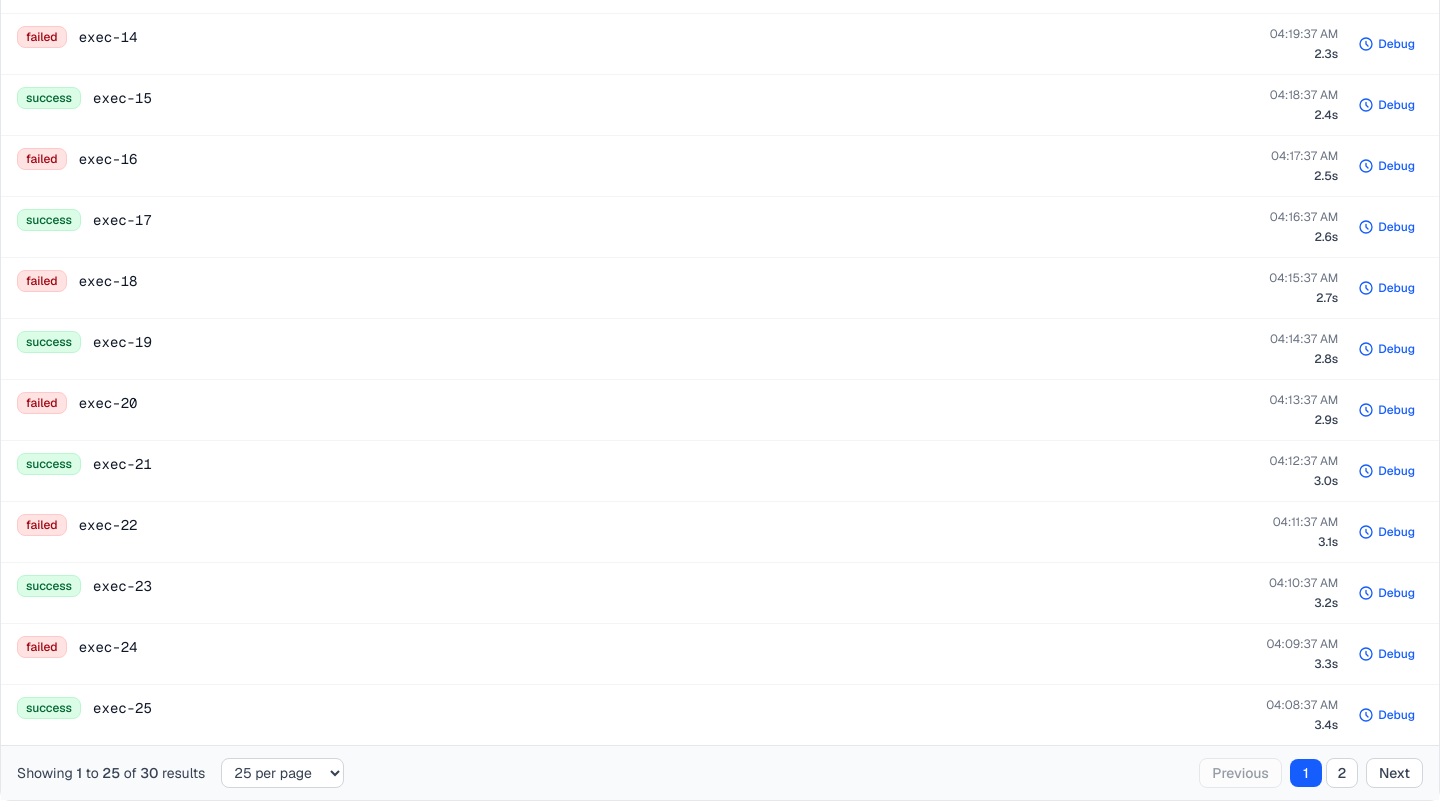
Test: ExecutionHistoryPanel › Pagination › clicking page number navigates to that page
(page scrolled)
Select "10 per page" in the dropdown at (283, 773), box [221,758,344,788]
(page scrolled)
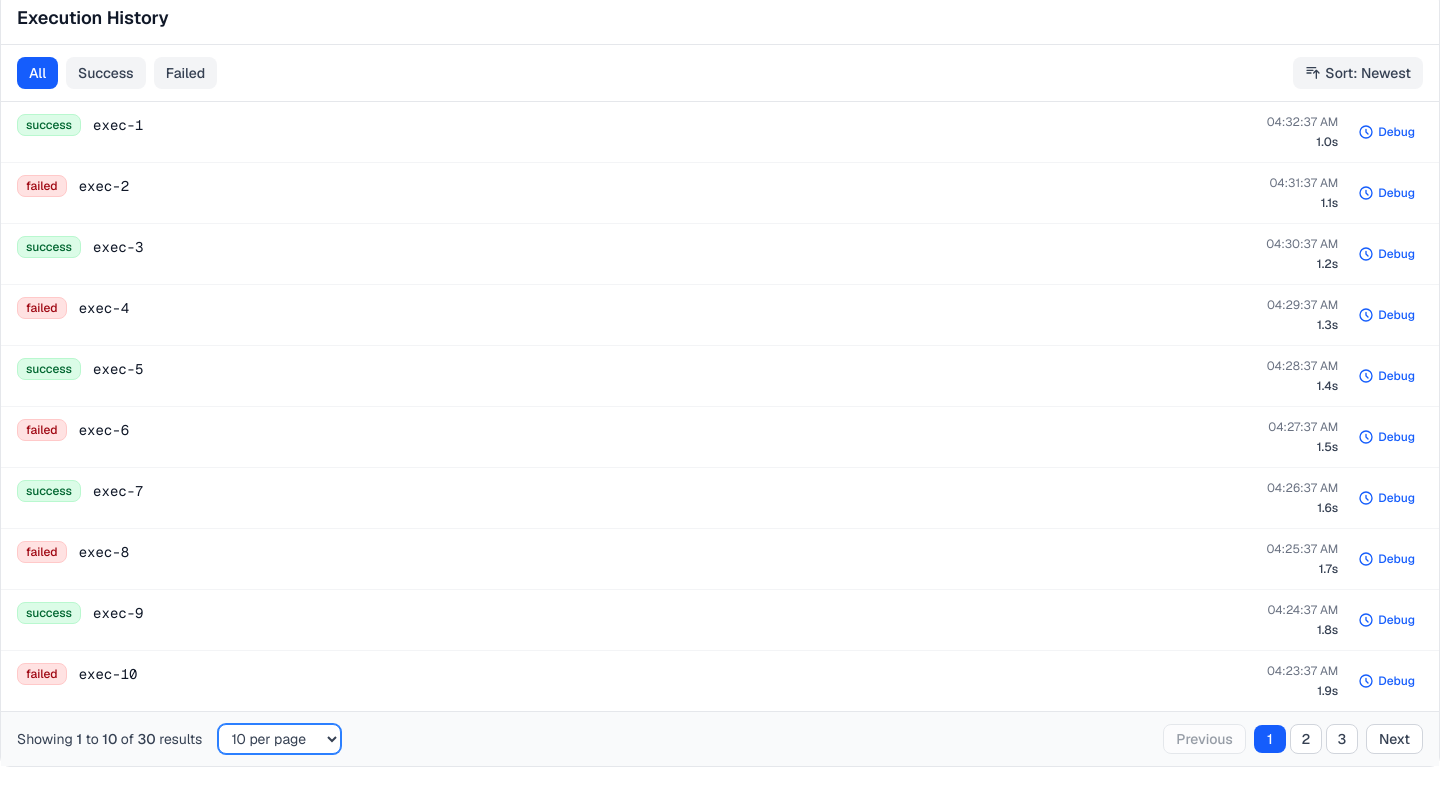
// Click on page 2 button
Click the button "2" at (1306, 739), box [1290,724,1322,754]
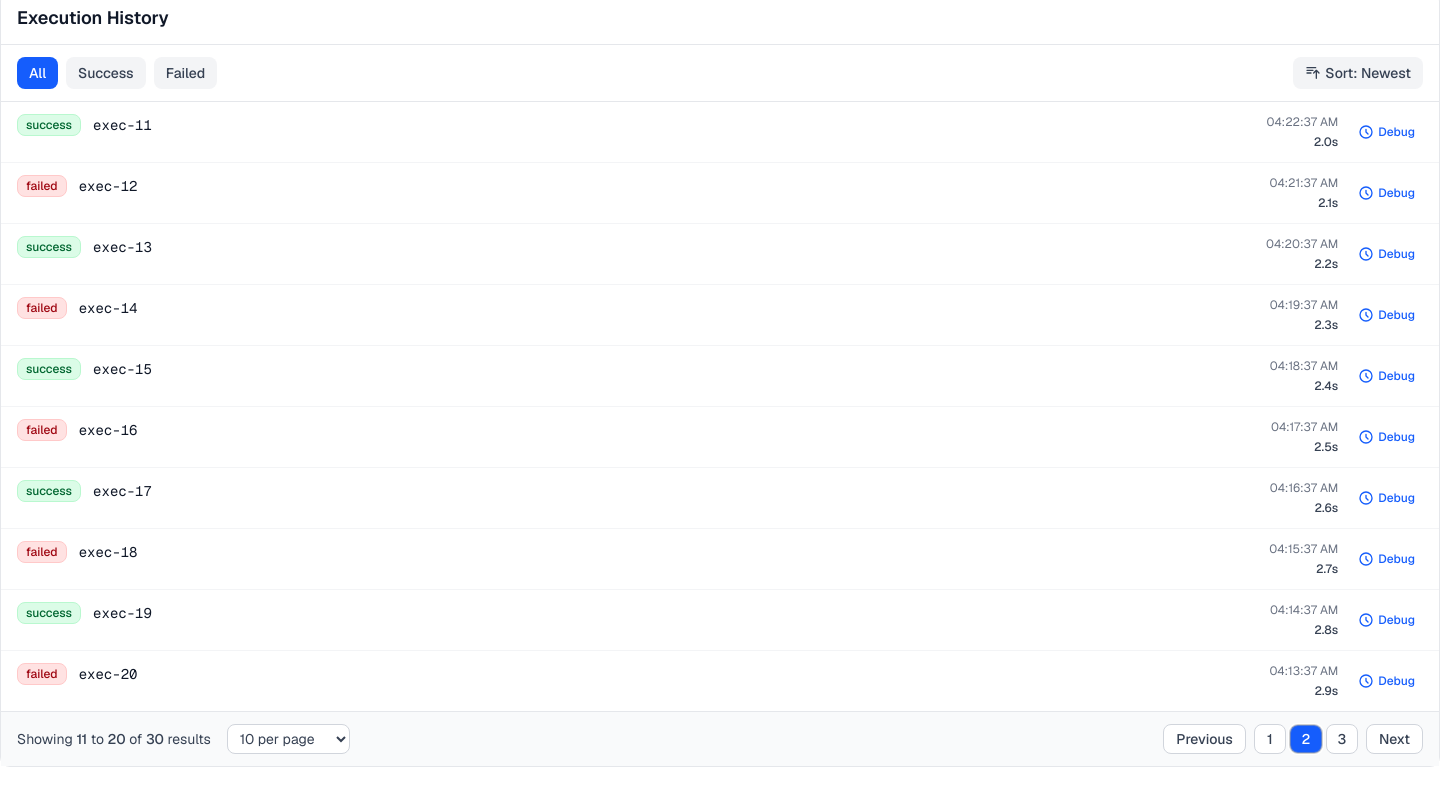
expect the text "exec-11" is shown: met, box [93,115,152,135]
